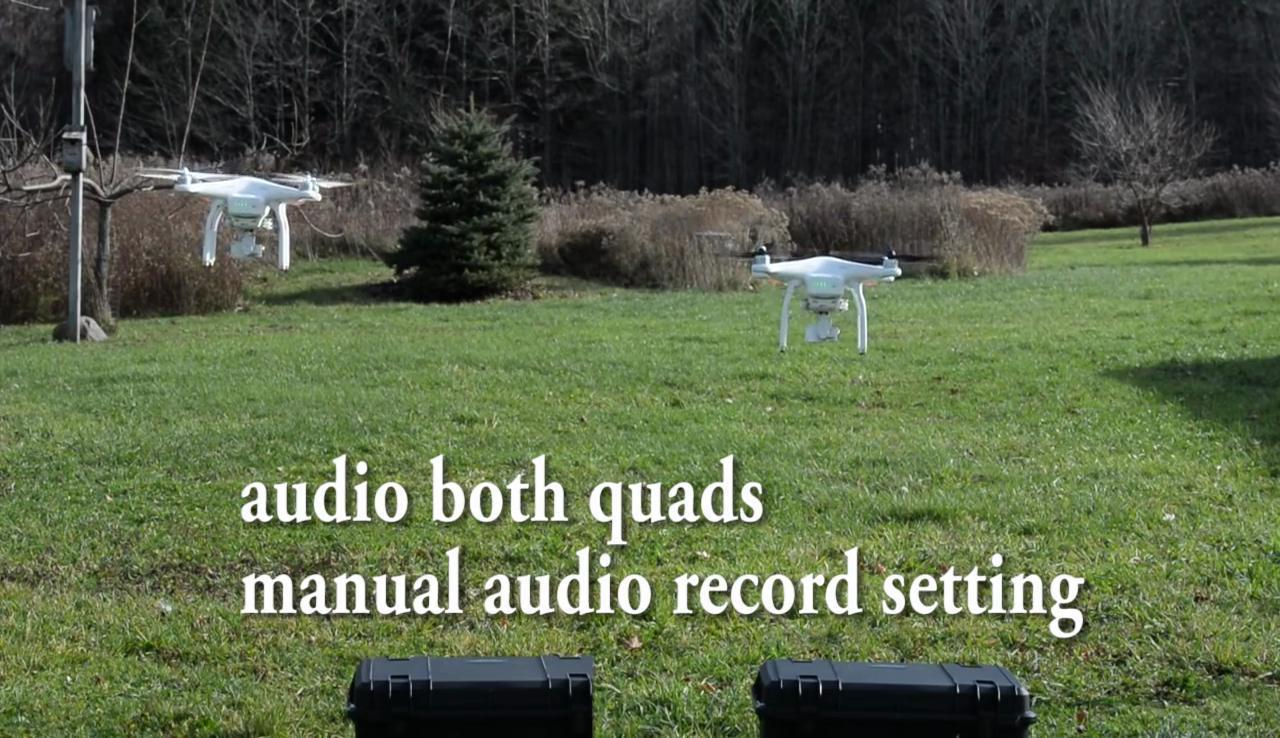drone: (732, 233, 906, 361), (173, 162, 342, 271)
